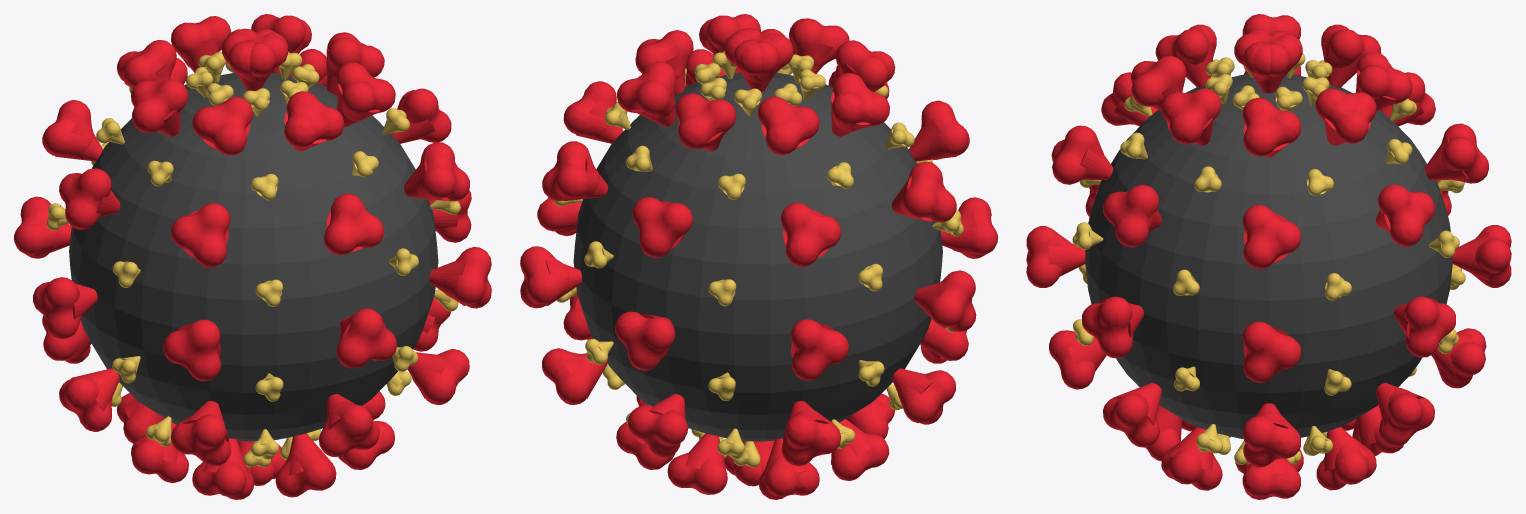
File: Virus.fbx
3 views of the same model, side by side, from view 1: azimuth 30°, elevation 25°; view 2: azimuth 150°, elevation 25°; view 3: azimuth 270°, elevation 25° (orthographic).
Parts seen in each view (by area): view 1: Cone; view 2: Cone; view 3: Cone.
Boxes of the visible parts, x1,y1,x2,y2 form: Cone: (14, 14, 491, 499); Cone: (520, 14, 997, 499); Cone: (1026, 14, 1511, 499).
Size of the model in its own units: 66.76 by 66.76 by 66.76.
